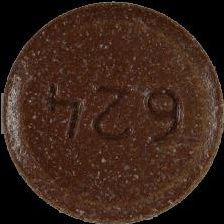0430-0540: (0, 0, 224, 224)
